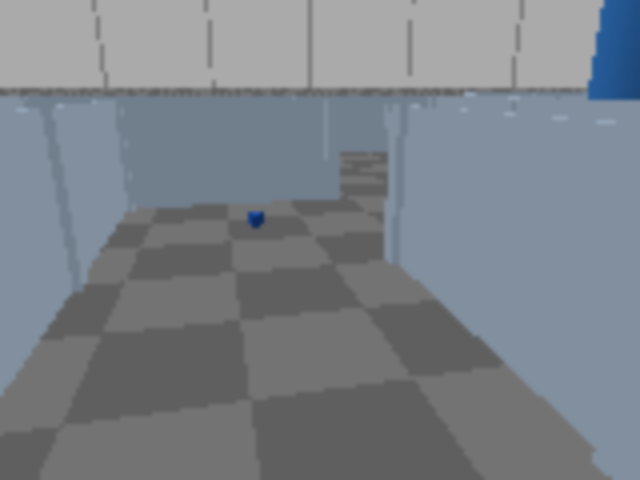person: (584, 0, 638, 215)
